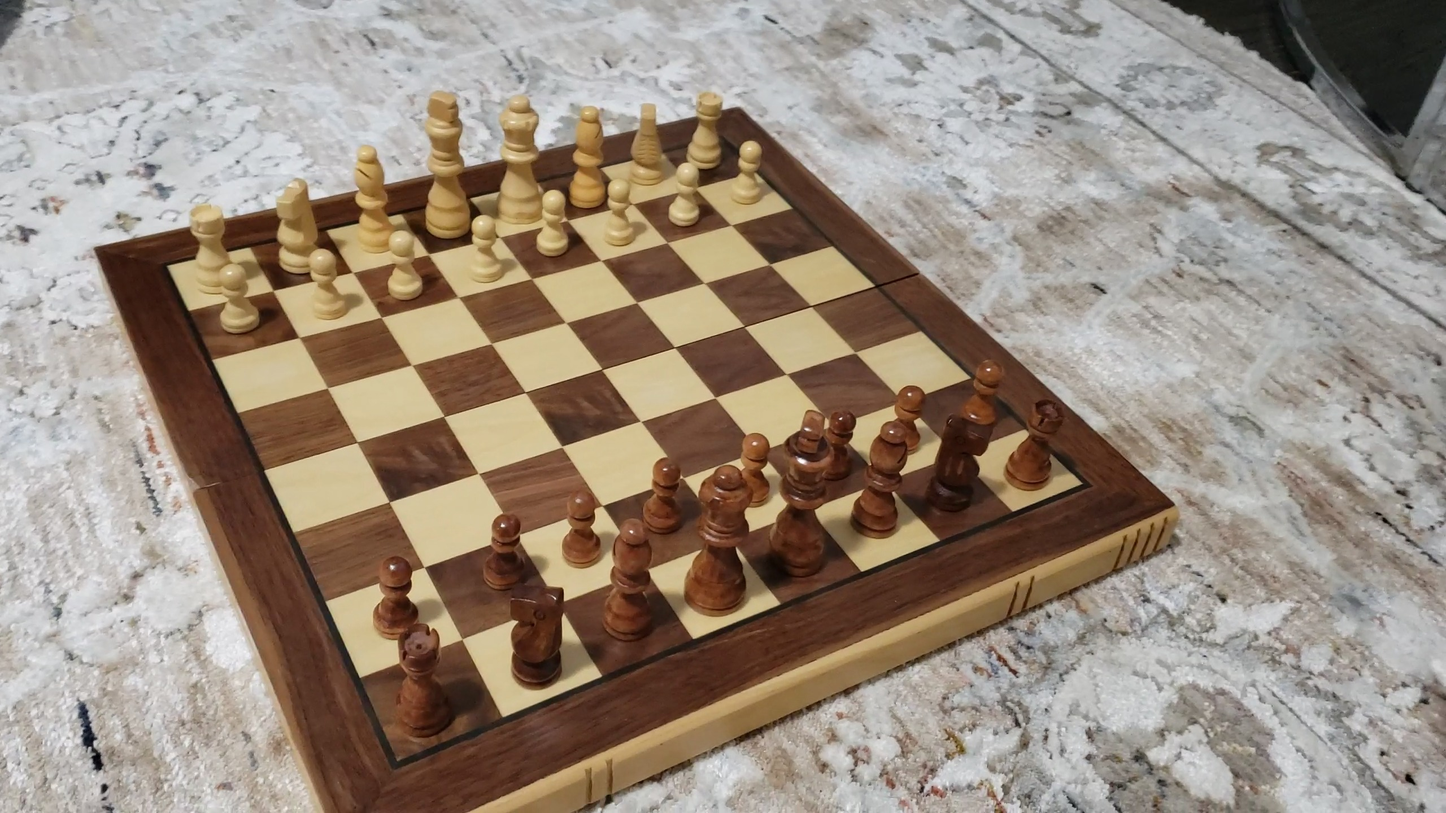black-bishop: (849, 419, 912, 539), (602, 518, 655, 642)
black-king: (768, 405, 836, 580)
black-knight: (925, 410, 994, 511), (508, 583, 568, 688)
black-pawn: (958, 353, 1006, 447), (372, 553, 421, 642), (481, 510, 529, 592), (882, 381, 929, 458), (560, 491, 603, 569), (642, 454, 683, 535), (736, 429, 775, 508), (822, 406, 856, 480)
black-queen: (683, 463, 755, 618)
black-rook: (391, 624, 455, 742), (1004, 397, 1065, 489)
white-bishop: (351, 141, 391, 256), (569, 103, 606, 211)
white-king: (420, 86, 471, 241)
white-knight: (273, 176, 318, 274), (629, 97, 667, 187)
white-pawn: (210, 260, 266, 339), (300, 245, 354, 326), (593, 170, 643, 253), (378, 226, 429, 307), (661, 155, 711, 233), (461, 211, 510, 289), (723, 135, 772, 210), (529, 185, 576, 263)
white-queen: (498, 90, 545, 226)
white-rook: (186, 198, 233, 295), (687, 88, 726, 172)
